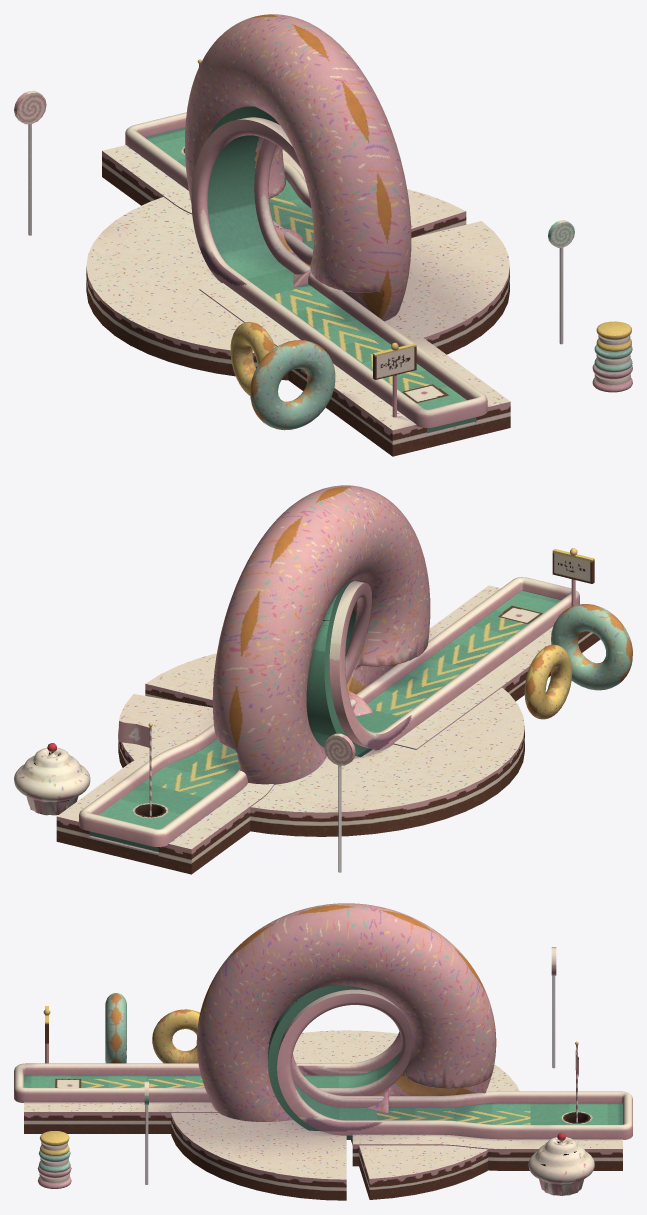
Rendered from hole04.glb.
The picture shows the model from 3 angles, top to bottom: view 1: azimuth 30°, elevation 25°; view 2: azimuth 150°, elevation 25°; view 3: azimuth 270°, elevation 25°; orthographic projection. The views are drawn at different scales.
Parts seen in each view (by area): view 1: Base, GiantDonut, Rails, Green, Decor1, Decor6, Decor2, HoleSign, Decor4, Decor5; view 2: Base, GiantDonut, Rails, Green, Decor1, Decor3, Decor2, HoleSign, Decor4, Flag; view 3: GiantDonut, Base, Rails, Green, Decor3, Decor2, Decor6, Decor1, Decor4, Decor5.
Part boxes in pixels (x1,y1,x2,y2): Base: [86, 145, 510, 456]; GiantDonut: [185, 14, 411, 321]; Rails: [125, 112, 487, 427]; Green: [145, 106, 476, 433]; Decor1: [250, 340, 335, 430]; Decor6: [592, 321, 632, 392]; Decor2: [230, 322, 275, 395]; HoleSign: [373, 342, 416, 417]; Decor4: [14, 90, 46, 235]; Decor5: [548, 220, 574, 344]; Base: [56, 585, 600, 874]; GiantDonut: [212, 485, 430, 784]; Rails: [79, 577, 579, 846]; Green: [89, 580, 560, 851]; Decor1: [551, 604, 632, 690]; Decor3: [14, 743, 90, 815]; Decor2: [524, 644, 572, 719]; HoleSign: [552, 548, 594, 606]; Decor4: [324, 733, 355, 872]; Flag: [119, 721, 152, 816]; GiantDonut: [196, 903, 496, 1121]; Base: [24, 1030, 622, 1200]; Rails: [14, 989, 632, 1139]; Green: [24, 985, 622, 1139]; Decor3: [528, 1132, 594, 1195]; Decor2: [152, 1009, 199, 1063]; Decor6: [37, 1131, 71, 1188]; Decor1: [105, 993, 126, 1063]; Decor4: [551, 947, 556, 1068]; Decor5: [144, 1081, 148, 1184].
Size of what is drawn, in the model's own units: 4.65 by 3.16 by 8.06.
Materials: 1 (1 with a texture image).
